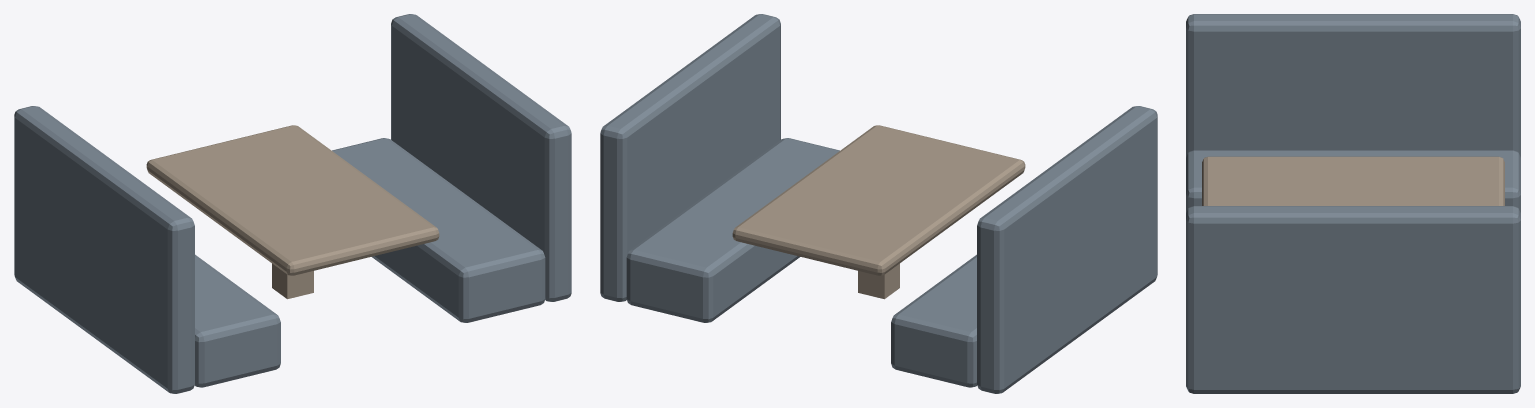
The model's file is window-booth.glb.
The picture shows the model from 3 angles, left to right: view 1: azimuth 30°, elevation 25°; view 2: azimuth 150°, elevation 25°; view 3: azimuth 270°, elevation 25°; orthographic projection. The views are drawn at different scales.
Visible parts, largest first — view 1: BenchRight, BenchLeft, Table; view 2: BenchRight, BenchLeft, Table; view 3: BenchRight, BenchLeft, Table.
Part boxes in pixels (x1=…): BenchRight: x1=332, y1=14, x2=571, y2=322; BenchLeft: x1=14, y1=106, x2=280, y2=393; Table: x1=146, y1=125, x2=439, y2=299; BenchRight: x1=600, y1=14, x2=839, y2=322; BenchLeft: x1=891, y1=106, x2=1157, y2=393; Table: x1=732, y1=125, x2=1025, y2=299; BenchRight: x1=1186, y1=206, x2=1520, y2=393; BenchLeft: x1=1186, y1=14, x2=1520, y2=212; Table: x1=1202, y1=156, x2=1504, y2=205.
Size of the model in its own units: 0.122 by 0.05 by 0.084.
